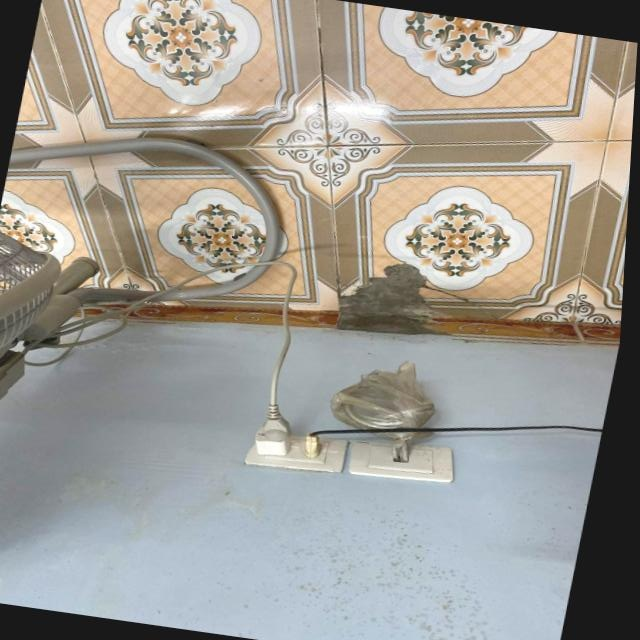outlet: (346, 433, 462, 488), (243, 425, 351, 479)
